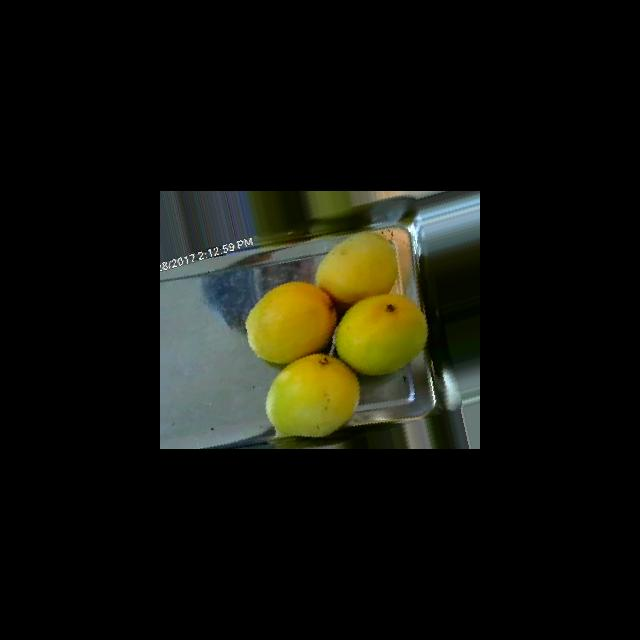mango: (265, 353, 360, 437), (334, 293, 428, 376), (245, 280, 336, 364), (315, 230, 398, 305)
